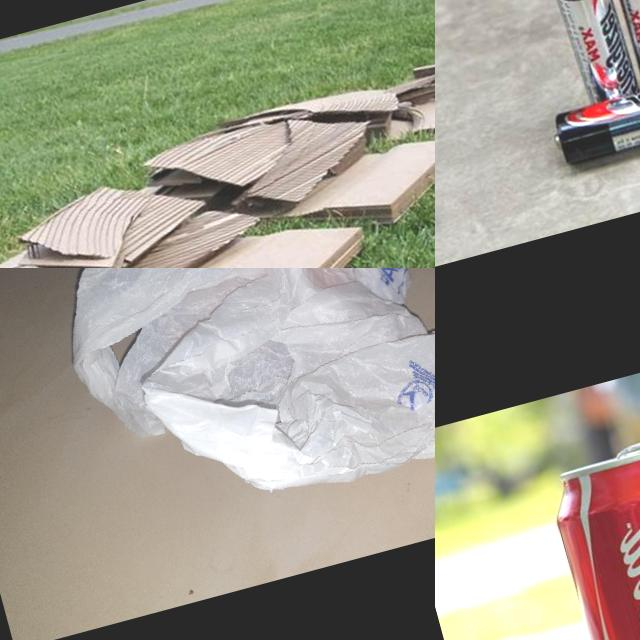aba de lata: (613, 437, 640, 461)
bateria: (535, 0, 640, 108), (545, 55, 640, 173), (595, 0, 640, 92)
lata: (544, 430, 640, 640)
papelão: (0, 43, 435, 268)
sacola plástica: (34, 268, 435, 553)
